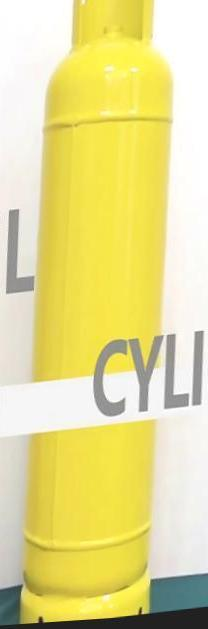cylinder: (1, 0, 208, 629)
